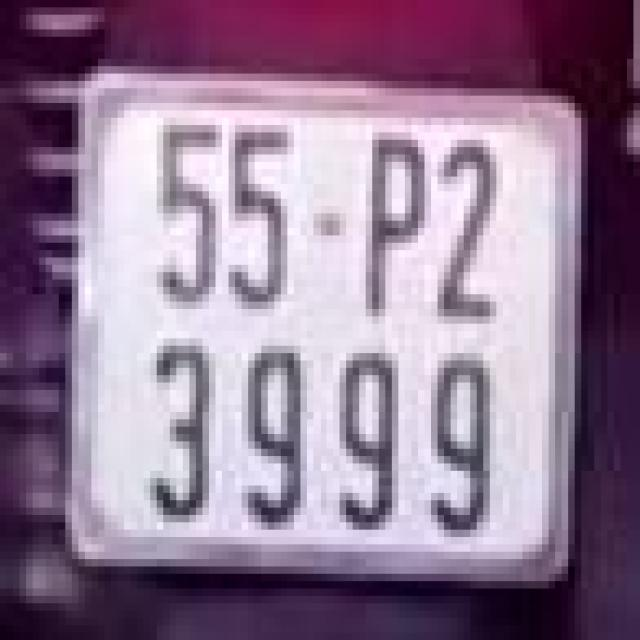2: (434, 121, 506, 335)
3: (140, 338, 212, 537)
5: (140, 114, 226, 313), (228, 110, 300, 316)
9: (323, 331, 408, 552), (421, 346, 506, 552), (229, 328, 307, 534)
P: (352, 118, 438, 324)
